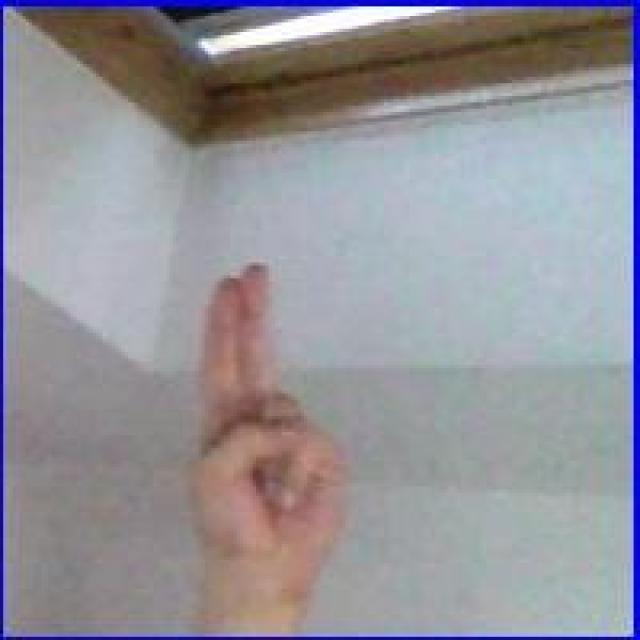U: (182, 258, 352, 596)
